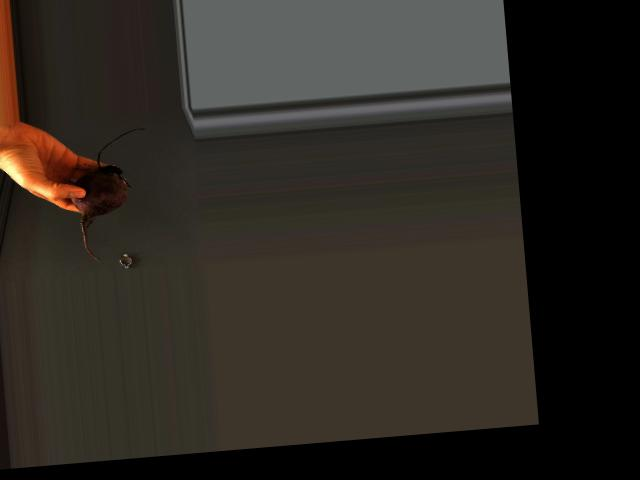beet: (65, 127, 156, 263)
